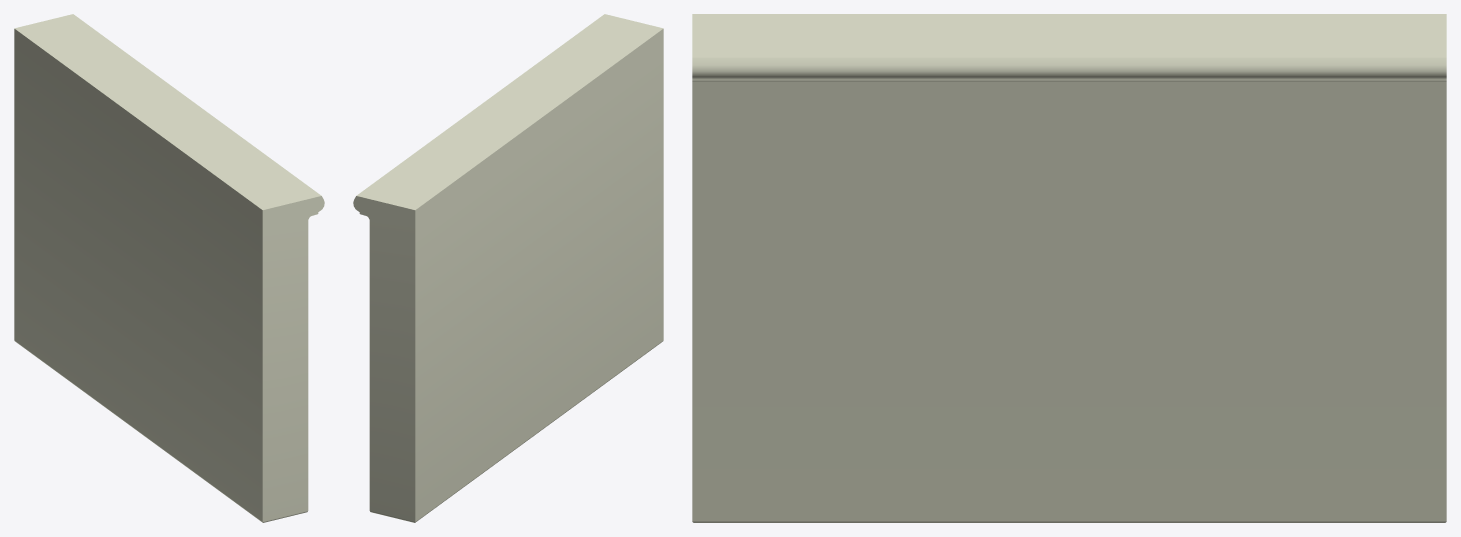
Rendered from ParedLisa.glb.
3 renders of one model, left to right at view 1: azimuth 30°, elevation 25°; view 2: azimuth 150°, elevation 25°; view 3: azimuth 270°, elevation 25°, orthographic. The views are drawn at different scales.
Parts seen in each view (by area): view 1: Cube; view 2: Cube; view 3: Cube.
Part boxes in pixels (x1=…): Cube: x1=14, y1=14, x2=324, y2=522; Cube: x1=353, y1=14, x2=663, y2=522; Cube: x1=692, y1=14, x2=1446, y2=522.
Size of the model in its own units: 1.67 by 8.09 by 11.61.
